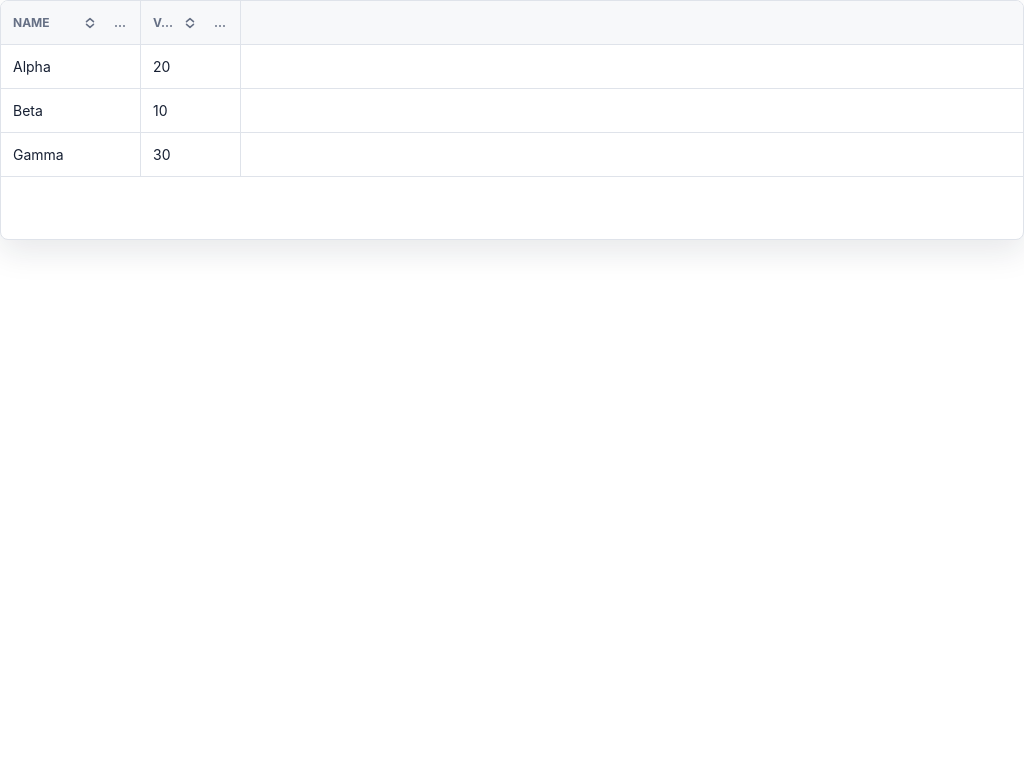
VirtualTable › applies a string filter from the column menu
Right-click the button named "sort name ascending" at point(90, 22), box [78,10,102,34]
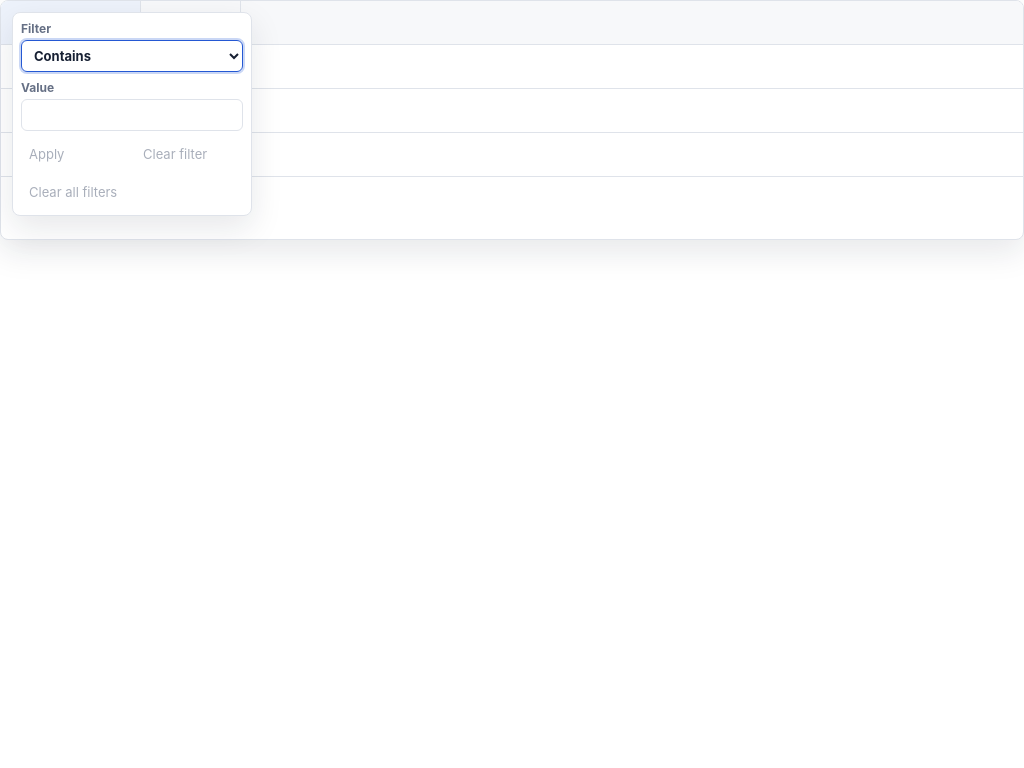
Type "bet" into the field labelled "Value". click: point(132, 115)
box: [21,99,243,131]
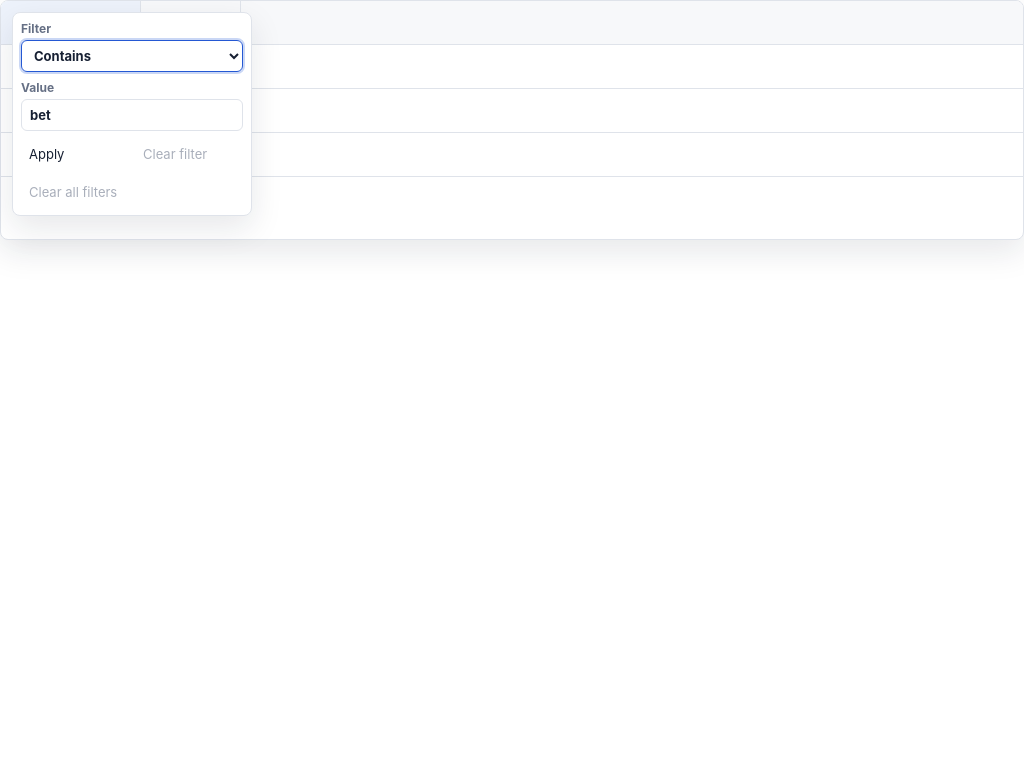
Click the button "Apply". click: point(75, 154)
box: [21,139,129,169]
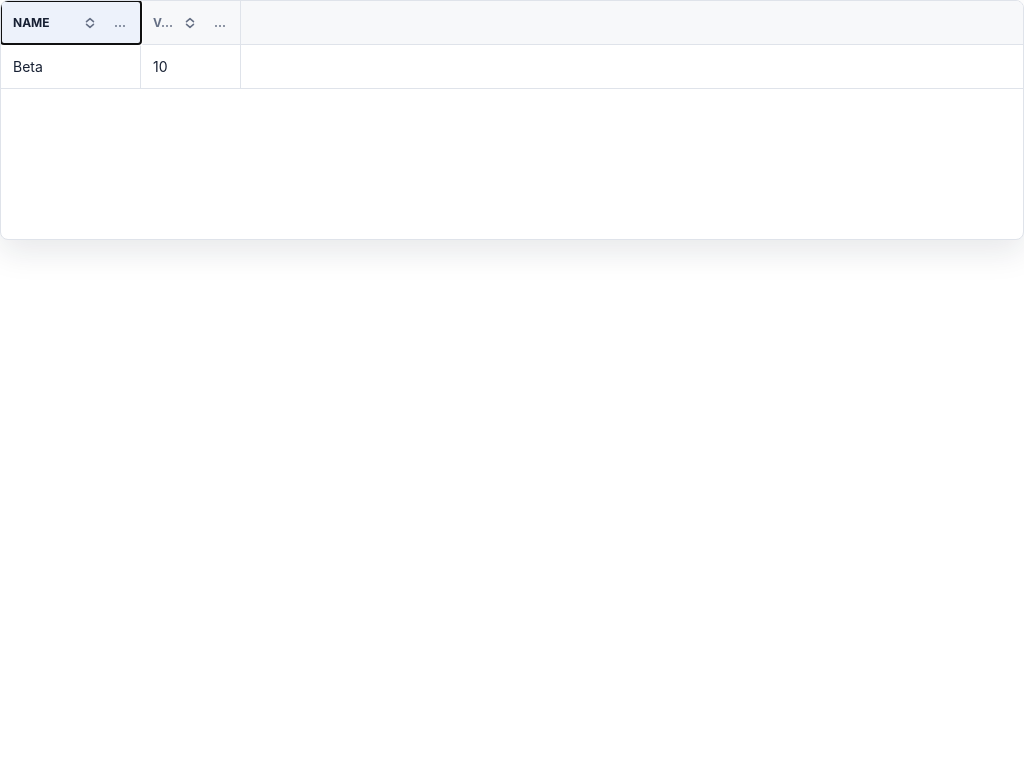
Check: the text "Beta" is shown, box [1,45,141,88]
Check: the text "Alpha" is gone
